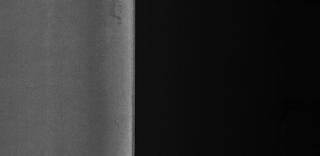water spot: (103, 2, 127, 32)
